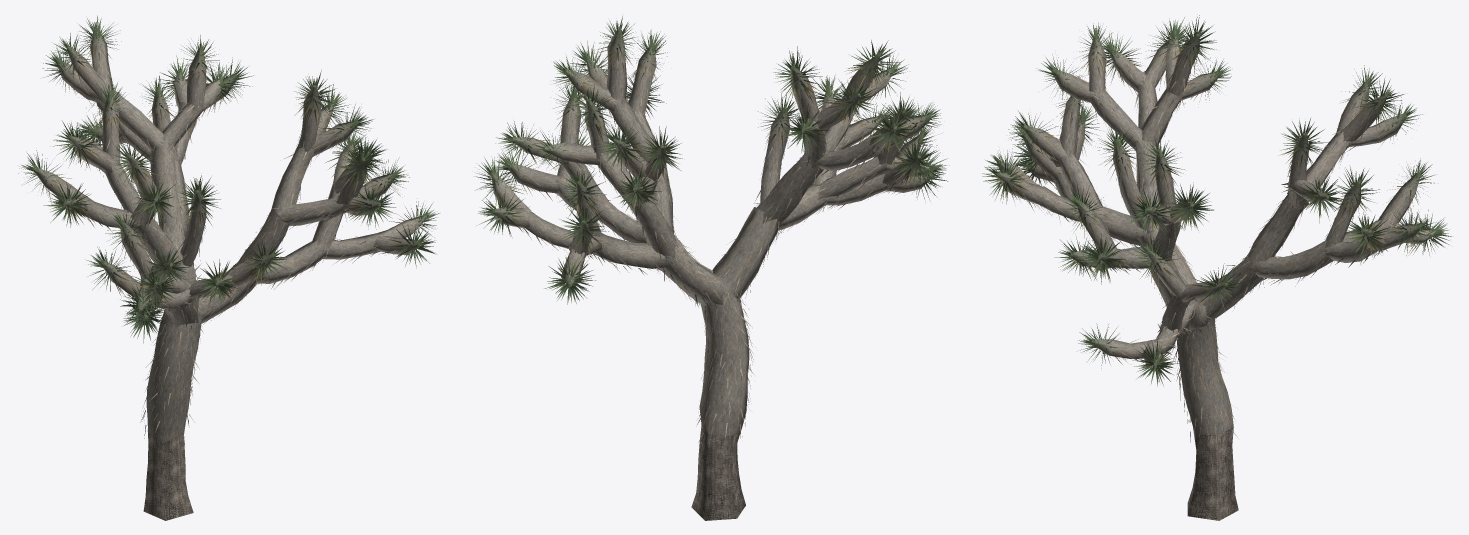
File: joshua_d_lod1.glb
The picture shows the model from 3 angles, left to right: view 1: azimuth 30°, elevation 25°; view 2: azimuth 150°, elevation 25°; view 3: azimuth 270°, elevation 25°; orthographic projection. The views are drawn at different scales.
Visible parts, largest first — view 1: joshua_d_lod1; view 2: joshua_d_lod1; view 3: joshua_d_lod1.
Part boxes in pixels (left/top/right/bottom): joshua_d_lod1: left=18, top=15, right=439, bottom=520; joshua_d_lod1: left=475, top=16, right=949, bottom=520; joshua_d_lod1: left=982, top=15, right=1451, bottom=520.
Size of the model in its own units: 8.55 by 8.91 by 8.35.
Materials: 3 (3 with a texture image).
